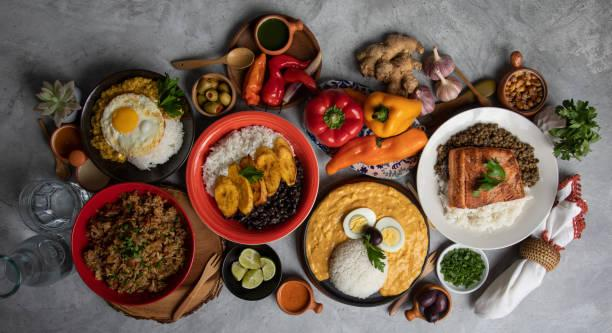Braised Crucian Carp: (416, 107, 555, 249), (185, 110, 317, 243), (301, 175, 428, 305), (71, 182, 193, 306), (80, 69, 194, 183)
